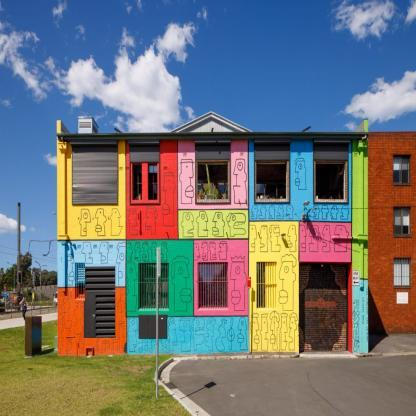Blind: (70, 140, 118, 206), (313, 138, 351, 161), (195, 139, 232, 161), (254, 139, 291, 161), (128, 140, 160, 163)
Building Outline: (56, 119, 368, 356)
Dont: (156, 245, 160, 398), (247, 277, 251, 355)
Door: (299, 264, 348, 351)
Door Hole: (299, 263, 353, 353)
Facade: (58, 137, 368, 353)
Floor Slab: (58, 233, 368, 239)
Ground Floor: (58, 239, 368, 353)
Top Floor: (58, 140, 368, 233)
Window: (315, 149, 347, 200), (256, 149, 287, 200), (197, 149, 228, 200), (197, 262, 229, 311), (139, 262, 170, 311), (257, 262, 276, 311), (132, 149, 142, 200), (149, 149, 159, 200), (75, 262, 85, 300)
